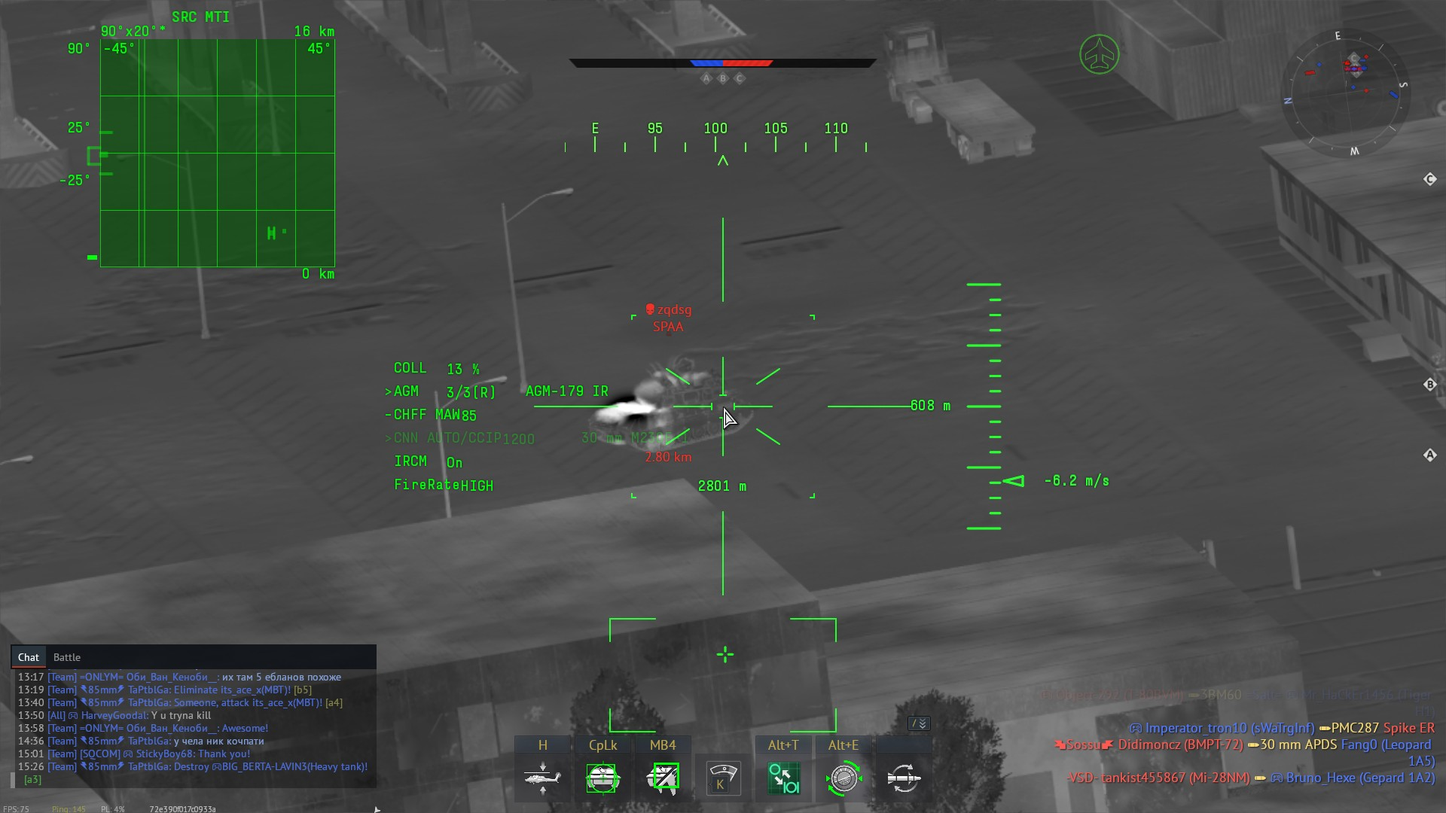spaa_zsu-23: (580, 353, 756, 452)
